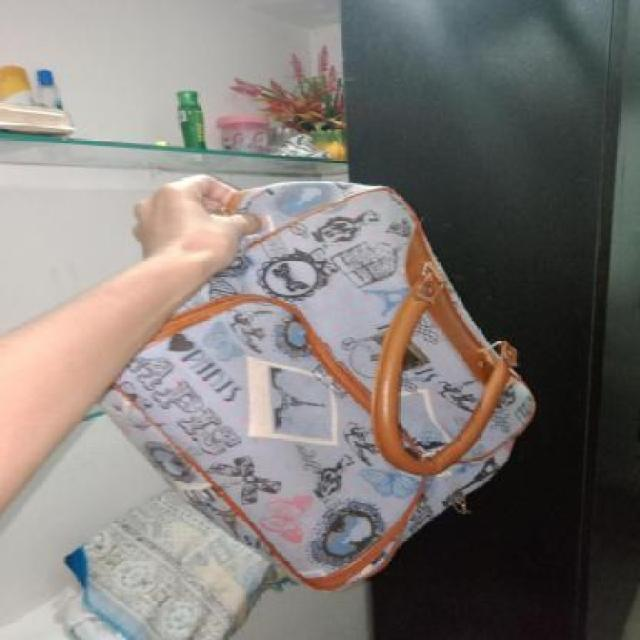backpack: (94, 169, 548, 597)
